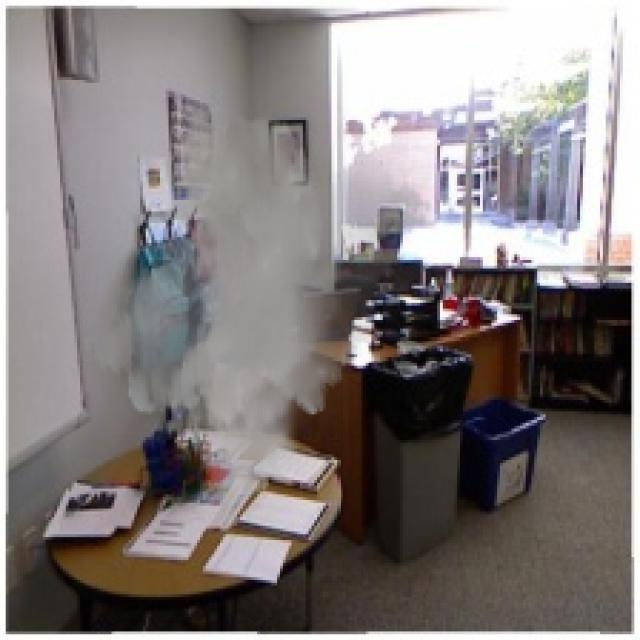Smoke: (82, 100, 434, 497)
